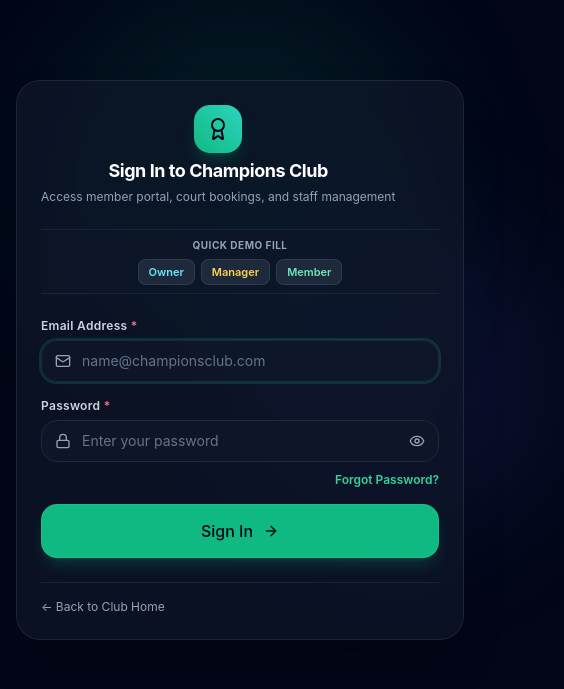
Scenario: Auth & RBAC Frontend Suite › Login Page Behaviors › validates empty inputs and displays error message
Click the button "Sign In" at {"x": 240, "y": 531}, box [41, 504, 439, 558]
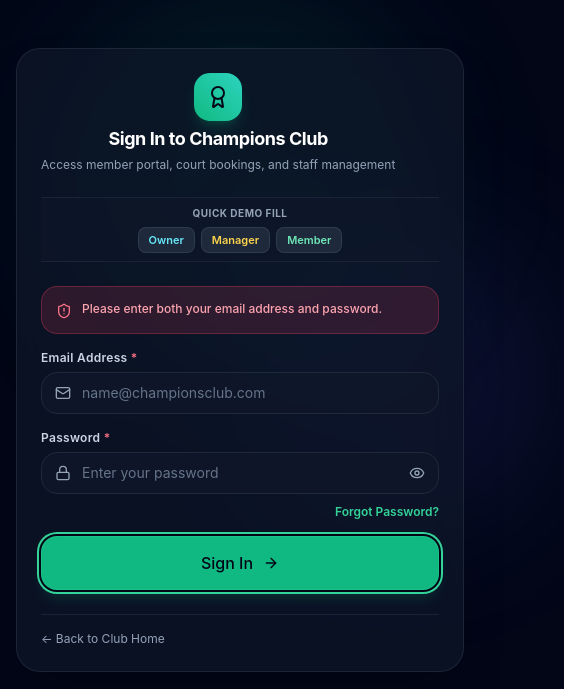
Check: the message shows "Please enter both your email address and password", box [82, 301, 382, 316]
